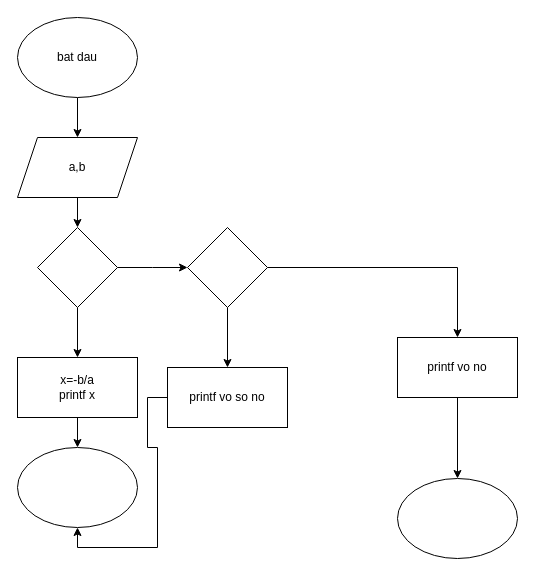
Image size: 535x576. Some labels were removed from this diagram. Each missing label, with the box of its shape:
a!=0: (36, 226, 118, 308)
b=0: (186, 226, 268, 308)
ket thuc: (16, 446, 138, 528)
